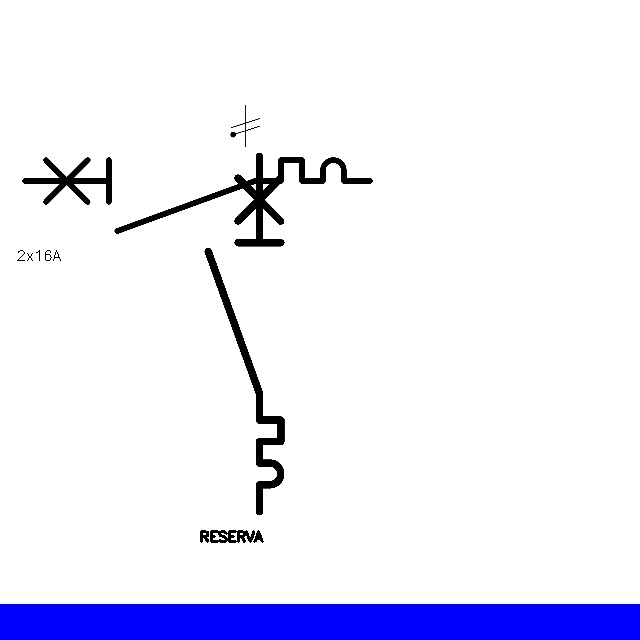interruptor_termomagnetico: (199, 147, 290, 521), (16, 151, 379, 240)
